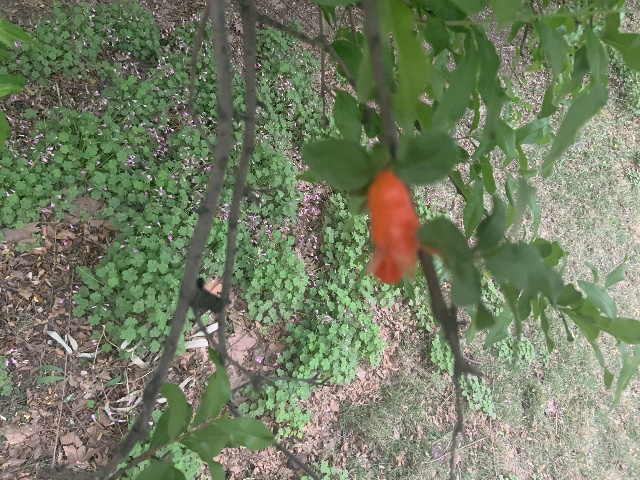flower: (363, 168, 441, 284)
